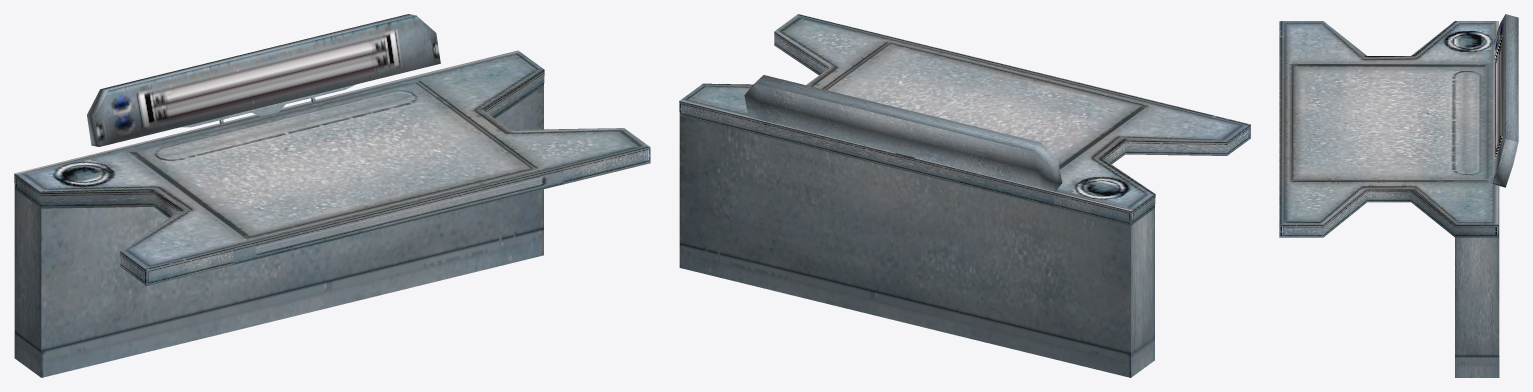
Rendered from frn_imp_tbl_s1_l0.fbx.
3 renders of one model, left to right at view 1: azimuth 30°, elevation 25°; view 2: azimuth 150°, elevation 25°; view 3: azimuth 270°, elevation 25°, orthographic. The views are drawn at different scales.
Parts seen in each view (by area): view 1: mesh_node; view 2: mesh_node; view 3: mesh_node.
Part boxes in pixels (x1,y1,x2,y2): mesh_node: [14, 14, 650, 377]; mesh_node: [679, 14, 1250, 377]; mesh_node: [1279, 14, 1518, 377].
Size of the model in its own units: 2.16 by 0.9873 by 1.07.
